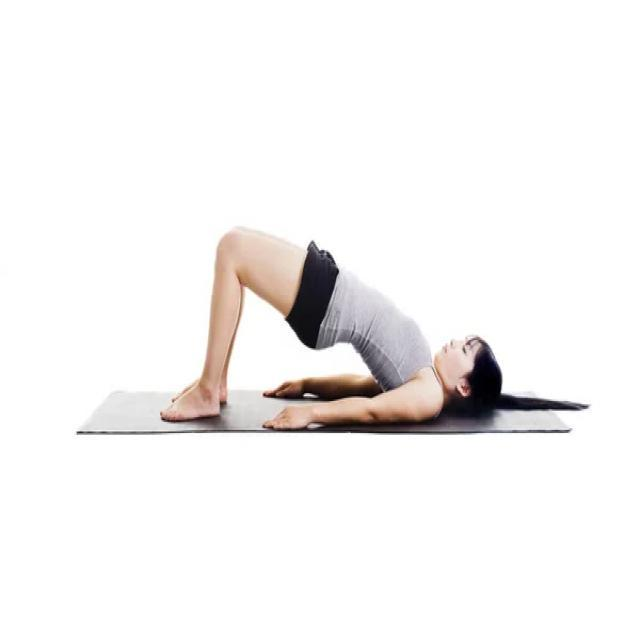yoga-pose bridge: (157, 218, 500, 434)
